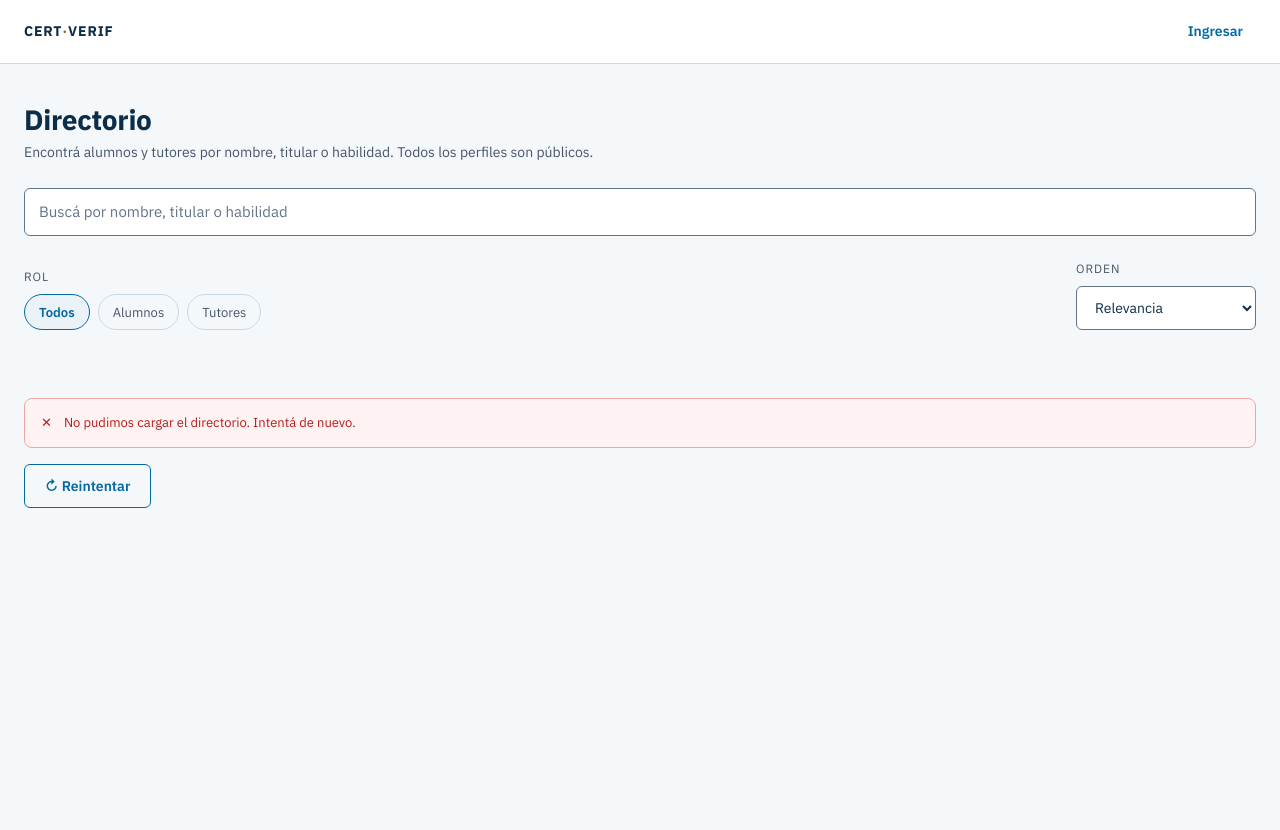
Test: Directorio › error con Reintentar
Expected: the text "No pudimos cargar el directorio. Intentá de nuevo." is shown, [64,414,356,431]
Click the button "↻ Reintentar".
click(88, 486)  # box [24,464,151,508]
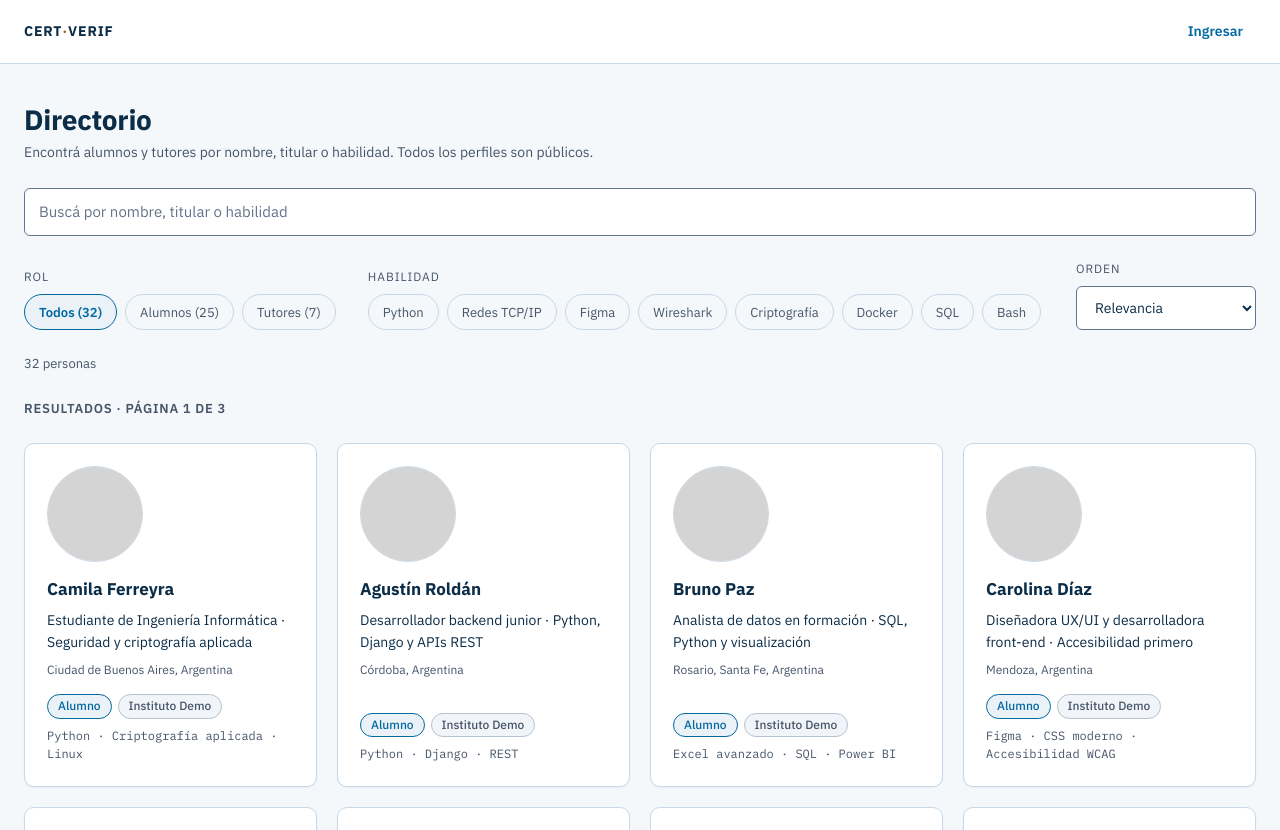
Result: the number of list items is 12
